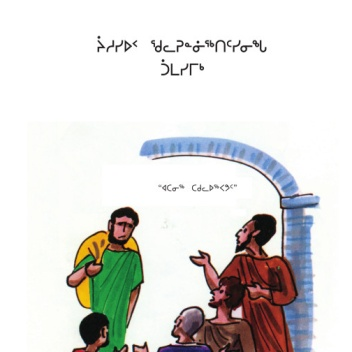inuktitut: (90, 31, 272, 55), (155, 56, 215, 79), (154, 180, 240, 192)
